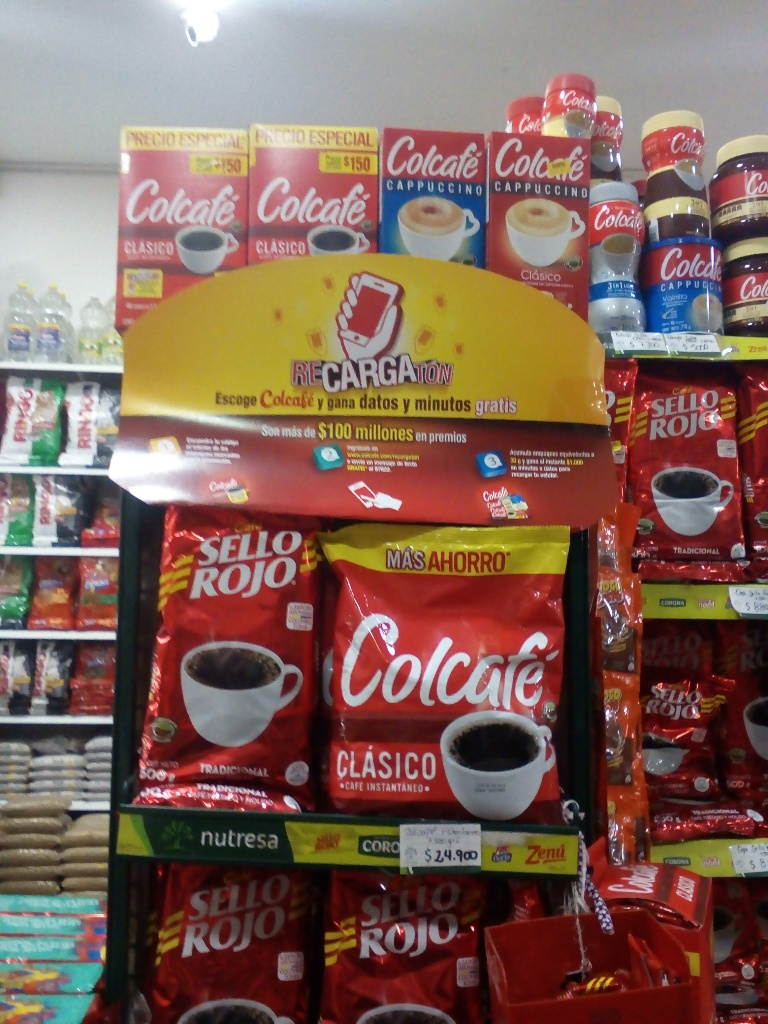COL0170103SOB02000: (590, 561, 646, 676)
